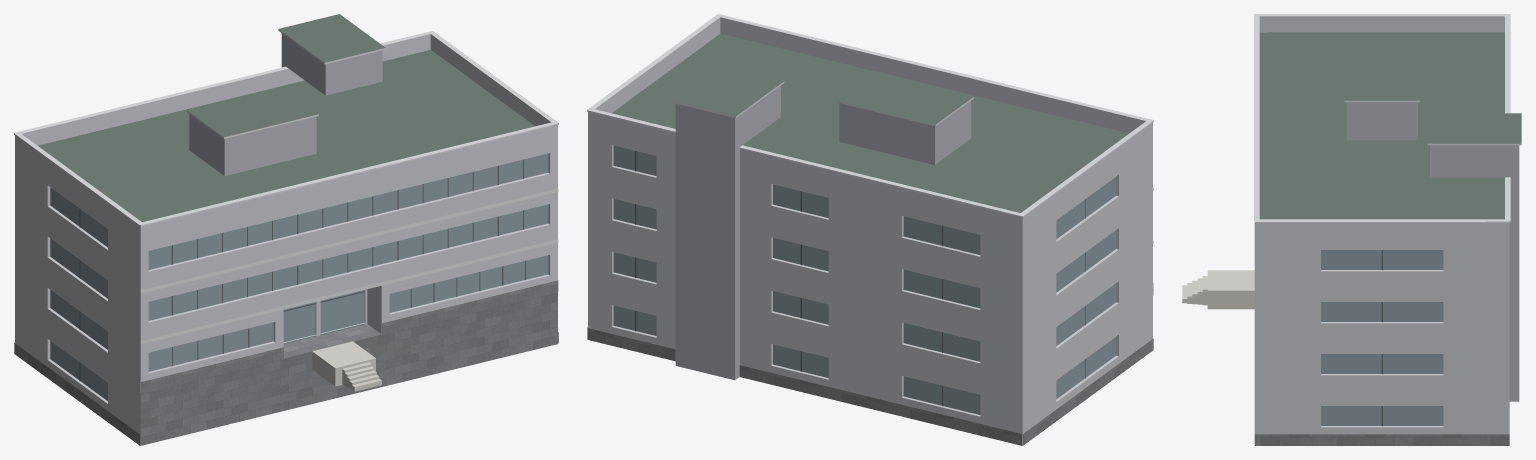
3 views of the same model, side by side, from view 1: azimuth 30°, elevation 25°; view 2: azimuth 150°, elevation 25°; view 3: azimuth 270°, elevation 25° (orthographic). The views are drawn at different scales.
Parts seen in each view (by area): view 1: b44__wall, b44__roof, b44__glass, b44__base, b44__parapet, b44__trim, b44__wall2, b44__entranceStair, b44__frame; view 2: b44__wall, b44__roof, b44__wall2, b44__glass, b44__parapet, b44__base, b44__trim; view 3: b44__roof, b44__wall, b44__glass, b44__wall2, b44__parapet, b44__trim, b44__base, b44__entranceStair.
Boxes of the visible parts, <box> form: b44__wall: <box>15,139,557,445</box>; b44__roof: <box>38,14,557,445</box>; b44__glass: <box>50,153,548,400</box>; b44__base: <box>14,280,558,445</box>; b44__parapet: <box>15,34,557,240</box>; b44__trim: <box>14,29,558,344</box>; b44__wall2: <box>189,33,382,175</box>; b44__entranceStair: <box>312,341,381,391</box>; b44__frame: <box>79,159,525,380</box>; b44__wall: <box>588,126,1152,445</box>; b44__roof: <box>612,33,1128,445</box>; b44__wall2: <box>675,85,971,380</box>; b44__glass: <box>613,145,1116,414</box>; b44__parapet: <box>588,17,1152,232</box>; b44__base: <box>587,283,1153,445</box>; b44__trim: <box>587,14,1153,243</box>; b44__roof: <box>1259,32,1521,219</box>; b44__wall: <box>1254,237,1509,434</box>; b44__glass: <box>1321,250,1443,425</box>; b44__wall2: <box>1346,102,1519,401</box>; b44__parapet: <box>1254,16,1509,237</box>; b44__trim: <box>1254,14,1521,223</box>; b44__base: <box>1254,434,1509,445</box>; b44__entranceStair: <box>1182,270,1254,309</box>.
Size of the model in its own units: 30.83 by 17.93 by 21.29.
10 materials, 1 textured.
